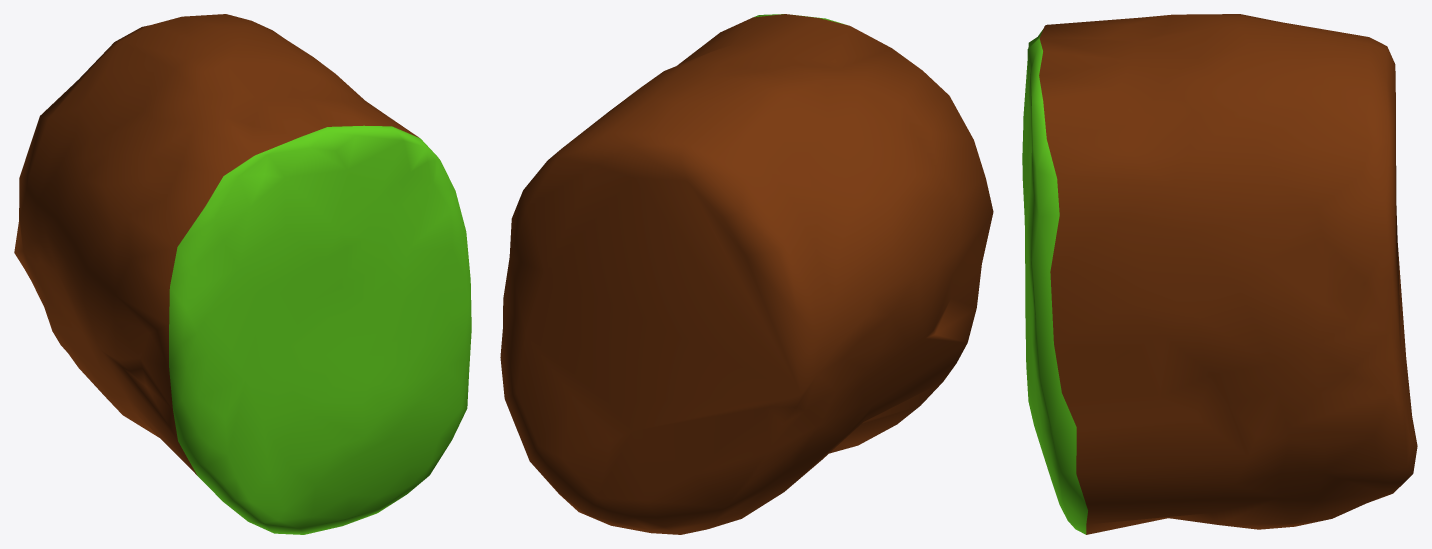
Rendered from CliffModular.obj.
The picture shows the model from 3 angles, left to right: view 1: azimuth 30°, elevation 25°; view 2: azimuth 150°, elevation 25°; view 3: azimuth 270°, elevation 25°; orthographic projection. The views are drawn at different scales.
Parts seen in each view (by area): view 1: Cylinder.002_Cylinder.003; view 2: Cylinder.002_Cylinder.003; view 3: Cylinder.002_Cylinder.003.
Part boxes in pixels (x1,y1,x2,y2): Cylinder.002_Cylinder.003: [14, 14, 471, 534]; Cylinder.002_Cylinder.003: [500, 14, 993, 534]; Cylinder.002_Cylinder.003: [1022, 14, 1417, 534].
Size of the model in its own units: 2.11 by 2.59 by 2.02.
